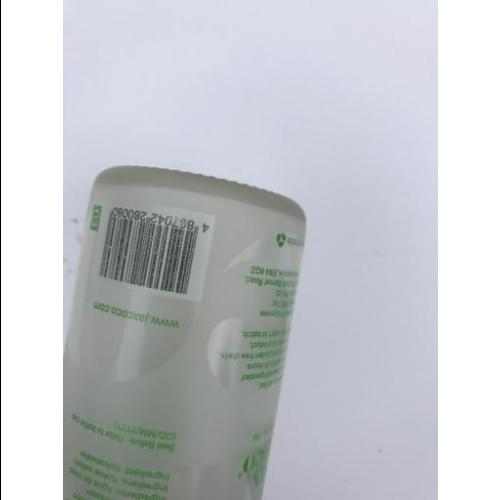glass: (63, 166, 305, 500)
